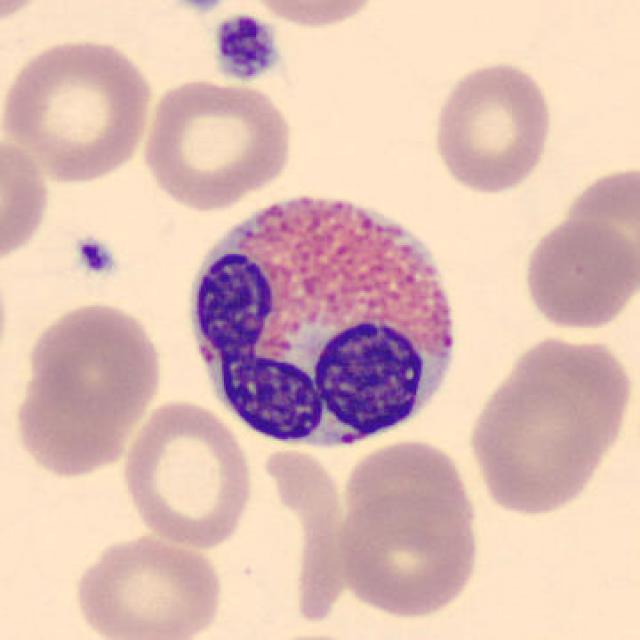Eosinophil: (176, 173, 471, 462)
Platelets: (208, 12, 281, 85), (73, 234, 121, 280), (171, 0, 233, 14)
RBC: (462, 328, 633, 520), (2, 34, 156, 185), (137, 76, 297, 212), (117, 397, 256, 550), (332, 486, 483, 620), (20, 296, 167, 432), (428, 56, 556, 196), (69, 530, 225, 640), (338, 435, 480, 536), (519, 215, 637, 335), (0, 130, 53, 273), (242, 0, 386, 32), (0, 0, 60, 31), (240, 627, 382, 640)
